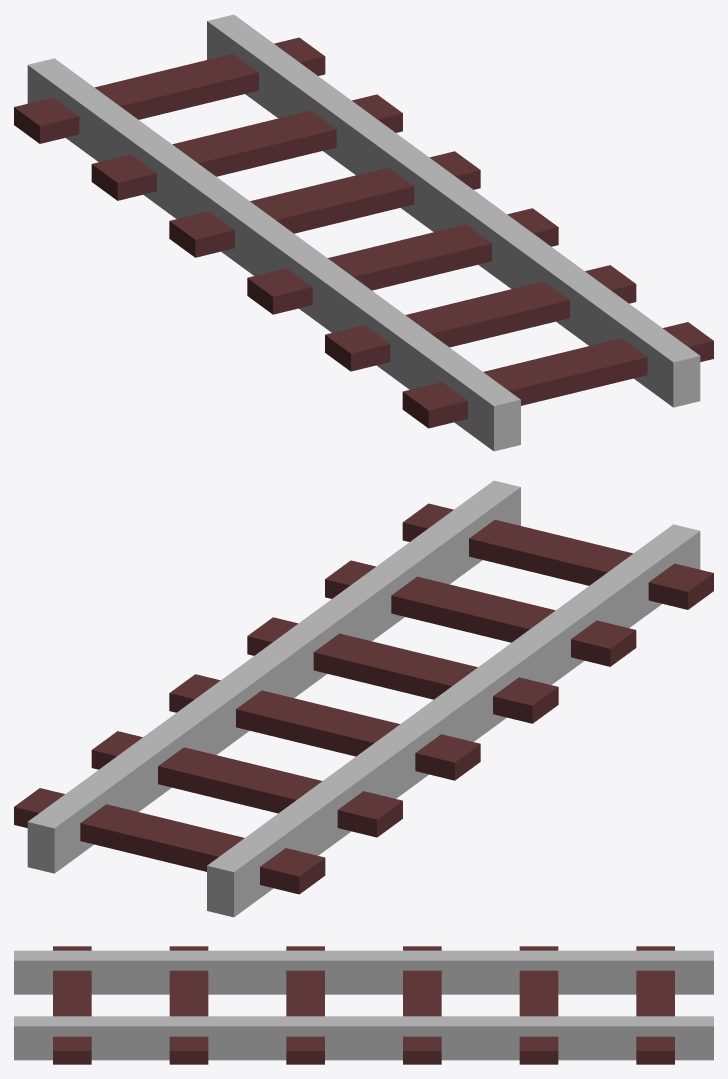
The model's file is Rails.fbx.
3 views of the same model, one above another, from view 1: azimuth 30°, elevation 25°; view 2: azimuth 150°, elevation 25°; view 3: azimuth 270°, elevation 25° (orthographic). The views are drawn at different scales.
Parts seen in each view (by area): view 1: Cube; view 2: Cube; view 3: Cube.
Part boxes in pixels (x1=…): Cube: x1=14, y1=14, x2=713, y2=451; Cube: x1=14, y1=480, x2=713, y2=917; Cube: x1=14, y1=946, x2=713, y2=1064.
Bounding box in the file's own units: 636 × 96.33 × 1800.
